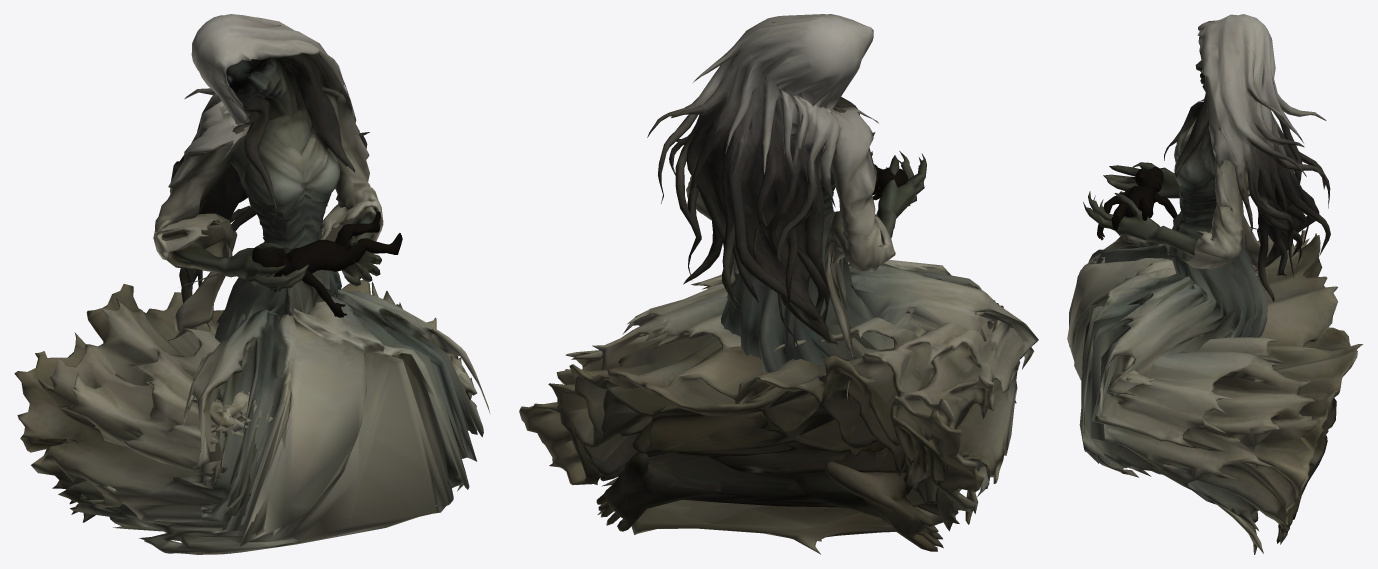
File: llorona_p4.glb
3 views of the same model, side by side, from view 1: azimuth 30°, elevation 25°; view 2: azimuth 150°, elevation 25°; view 3: azimuth 270°, elevation 25° (orthographic). The views are drawn at different scales.
Parts seen in each view (by area): view 1: llorona; view 2: llorona; view 3: llorona.
Part boxes in pixels (bbox=[...]): llorona: bbox=[14, 14, 490, 554]; llorona: bbox=[519, 14, 1038, 554]; llorona: bbox=[1067, 14, 1362, 554].
Bounding box in the file's own units: 1.05 × 1.23 × 0.7108.
Materials: 1 (1 with a texture image).
